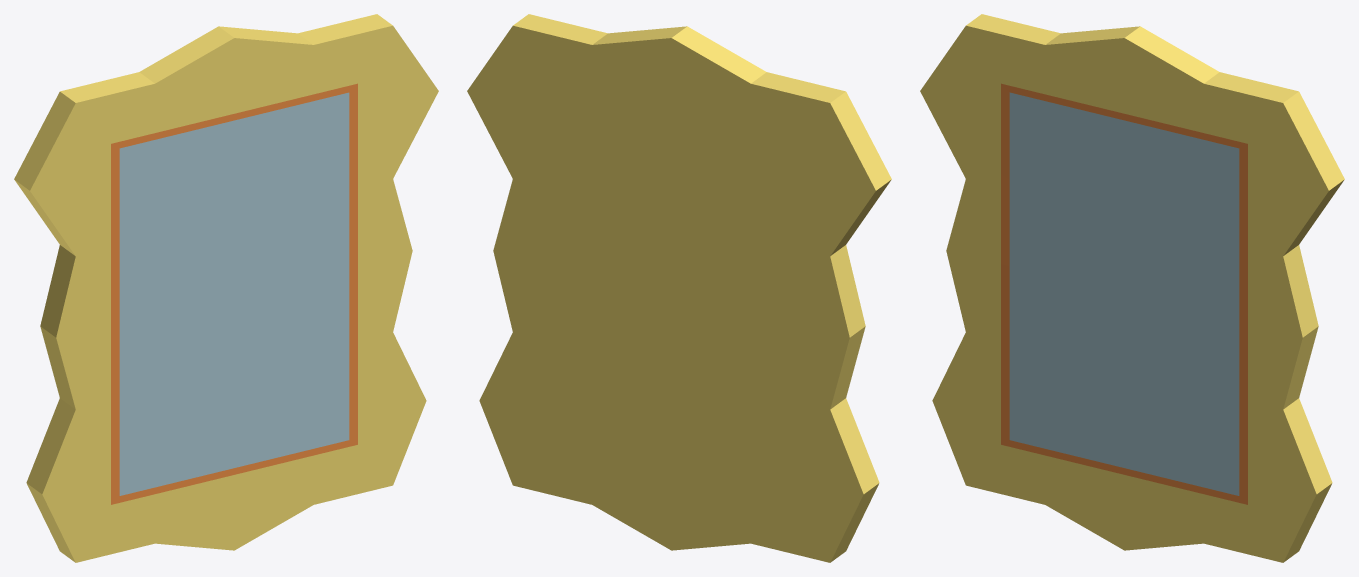
Rendered from Mirror_4.fbx.
3 views of the same model, side by side, from view 1: azimuth 30°, elevation 25°; view 2: azimuth 150°, elevation 25°; view 3: azimuth 330°, elevation 25° (orthographic).
Visible parts, largest first — view 1: Mirror_4; view 2: Mirror_4; view 3: Mirror_4.
Boxes of the visible parts, left/top/right/bottom form: Mirror_4: left=14, top=14, right=438, bottom=562; Mirror_4: left=467, top=14, right=891, bottom=562; Mirror_4: left=920, top=14, right=1344, bottom=562.
Bounding box in the file's own units: 36.61 × 2.47 × 43.85.
